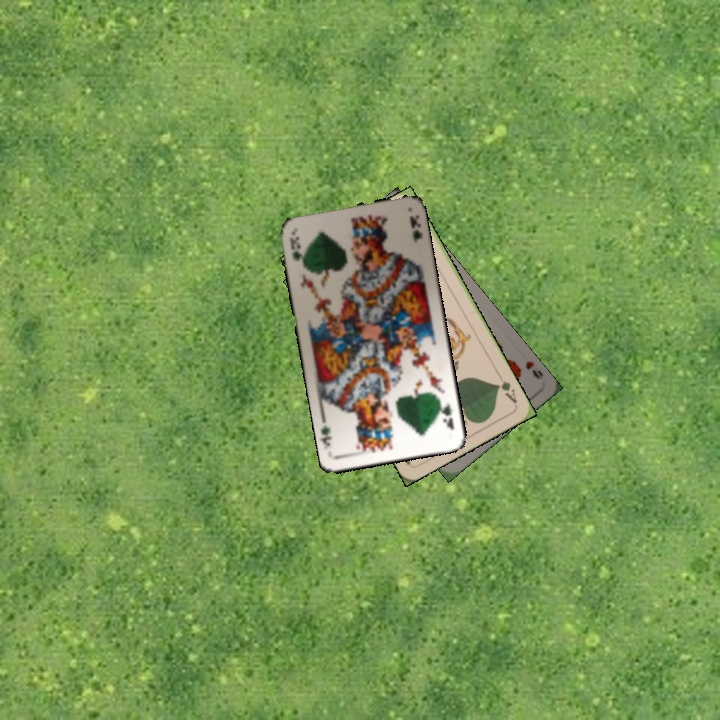GA: (492, 370, 520, 406)
GK: (286, 232, 308, 270), (435, 396, 457, 433)
H9: (521, 357, 546, 382)
